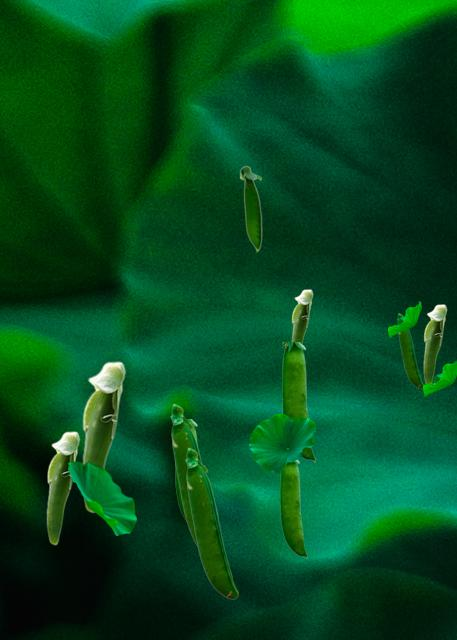pea: (185, 447, 237, 598), (81, 361, 125, 512), (170, 403, 202, 545), (282, 342, 314, 461), (46, 431, 79, 544), (280, 460, 306, 557), (175, 419, 197, 519), (239, 165, 261, 252), (397, 313, 422, 387), (423, 304, 446, 383), (291, 289, 312, 343)
